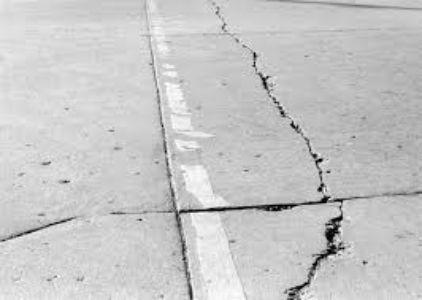crack: (206, 0, 346, 300), (3, 190, 422, 247), (140, 1, 191, 300)
